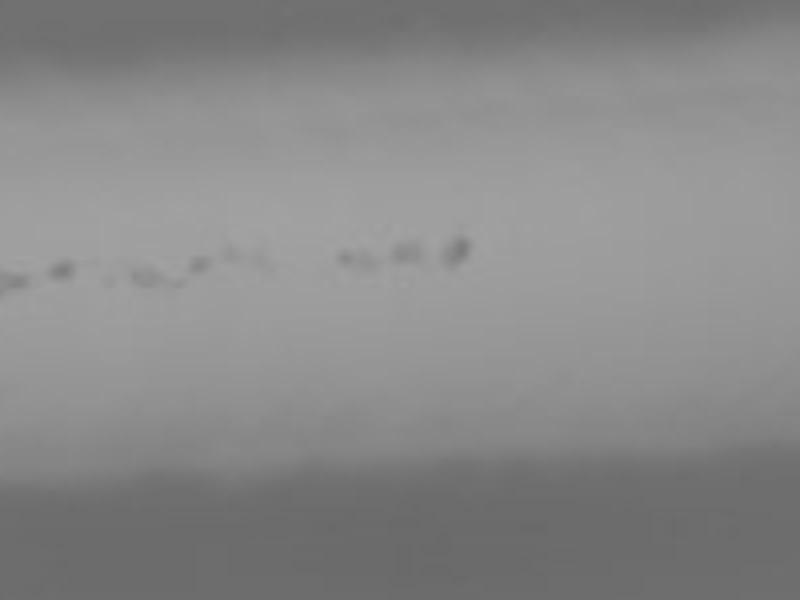defect: (436, 236, 468, 273), (127, 262, 165, 289), (390, 236, 423, 262), (45, 256, 75, 284), (353, 250, 381, 278), (2, 267, 28, 291), (187, 252, 212, 274), (217, 240, 242, 262), (335, 244, 356, 268), (96, 271, 115, 289), (168, 276, 186, 294)
